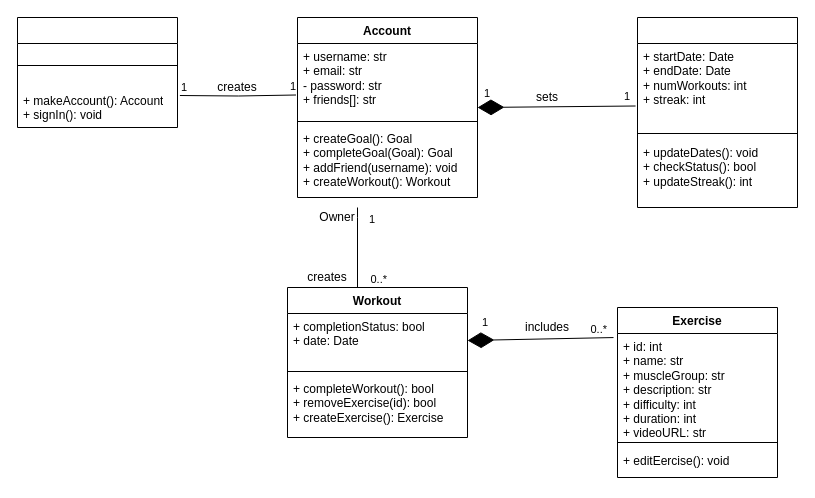
This 815x498 diagram has some shape labels left out. The shapes that lost their labels are listed below. From the top down, each one's box as (x1, y1, x2, y2) in pixels, then its label:
(16, 16, 178, 128): User
(636, 16, 798, 208): Goal
